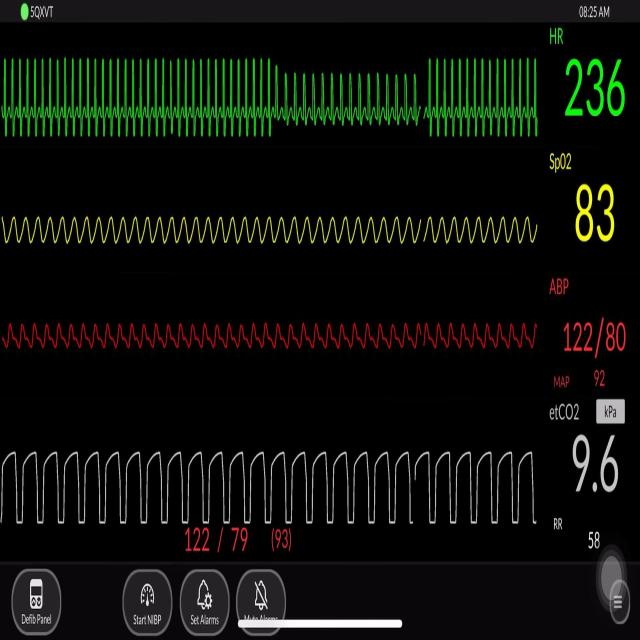danger: (10, 36, 275, 155), (422, 36, 543, 159), (277, 54, 420, 144)
